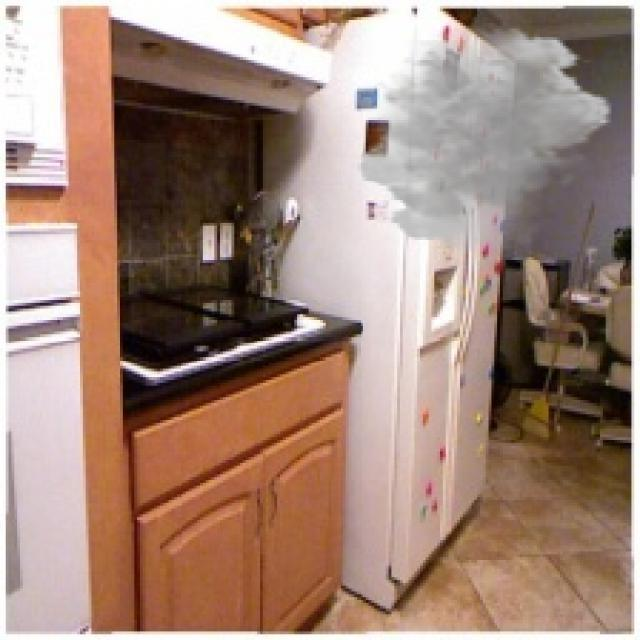Smoke: (354, 23, 614, 254)
